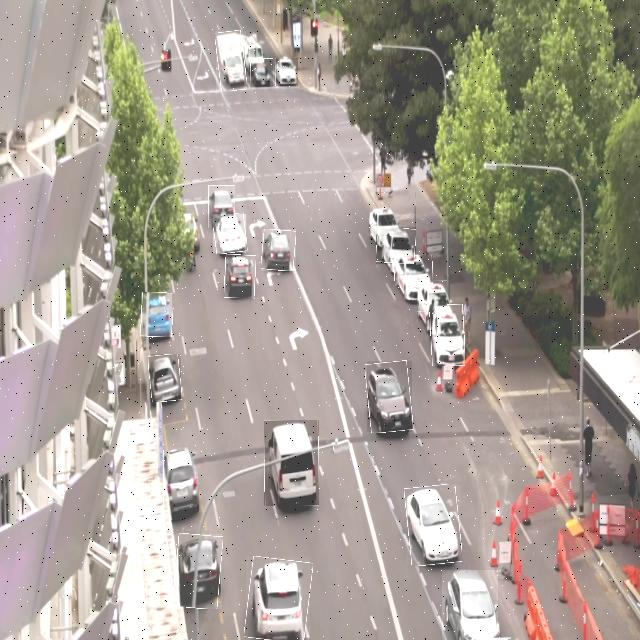Car: (246, 557, 310, 640), (264, 421, 319, 506), (406, 485, 461, 565), (442, 570, 498, 640), (174, 534, 222, 609), (367, 361, 412, 432), (163, 450, 198, 520), (430, 305, 465, 366), (149, 354, 181, 402), (376, 227, 416, 264), (262, 229, 296, 271), (141, 293, 172, 337), (225, 255, 255, 298), (213, 214, 246, 253), (208, 185, 235, 228), (395, 256, 433, 286), (367, 206, 403, 236), (417, 280, 447, 312), (250, 58, 273, 87), (275, 58, 298, 86)
Truck: (216, 31, 246, 90)
